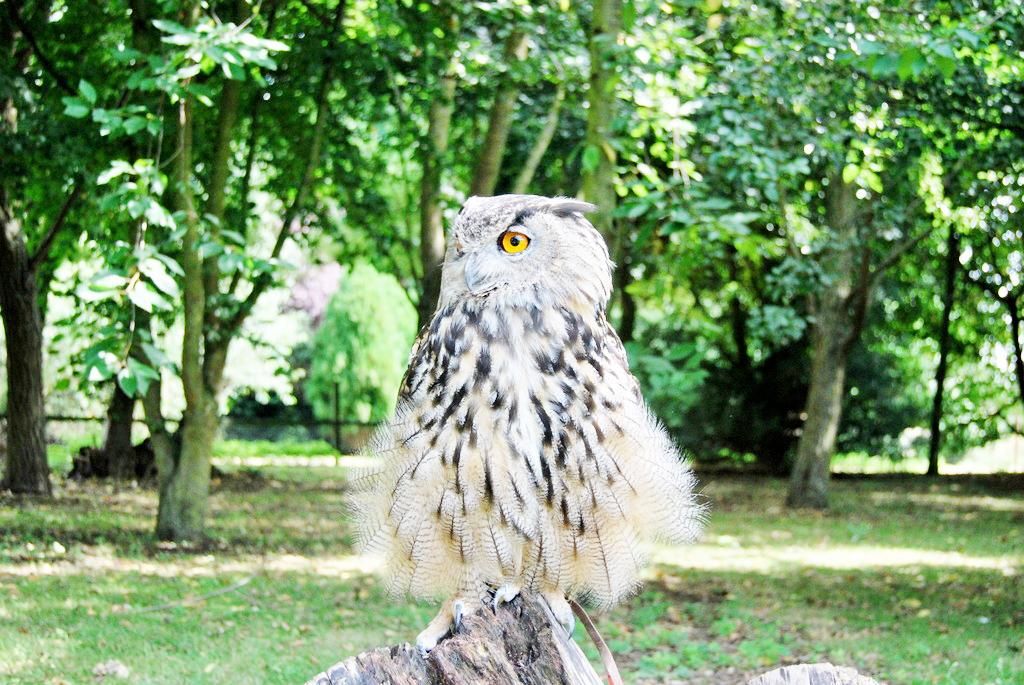Owl: (352, 186, 695, 658)
